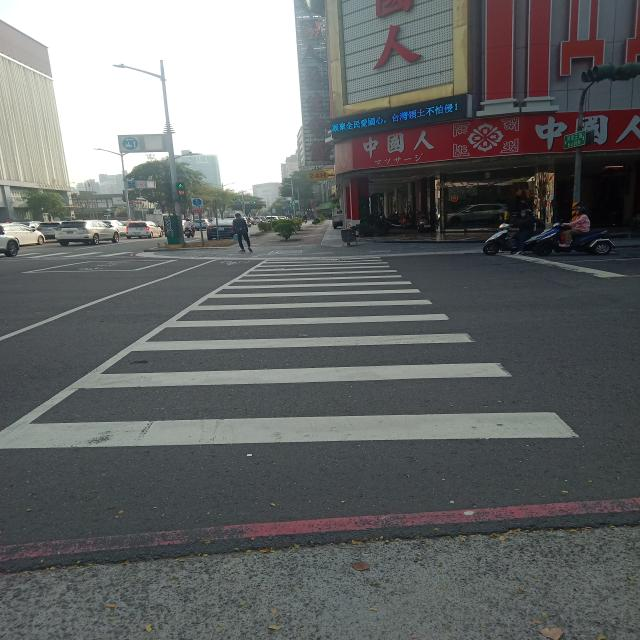person: (510, 209, 538, 255), (560, 206, 590, 248), (232, 214, 252, 252)
zebra crossing: (4, 254, 579, 443)
